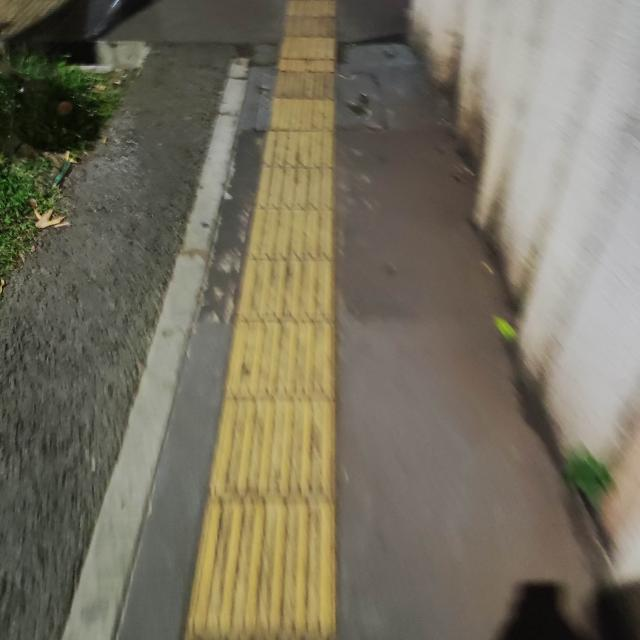lurus: (198, 68, 351, 640)
